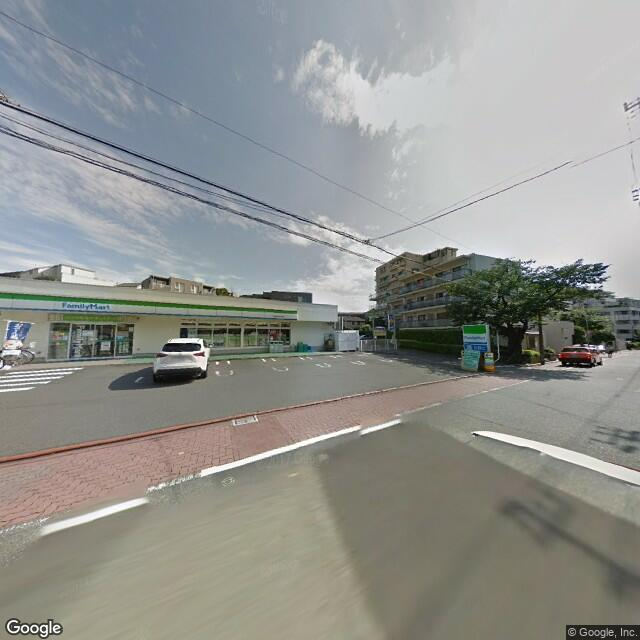family_mart: (1, 288, 304, 324), (57, 297, 112, 315), (461, 320, 490, 353)
